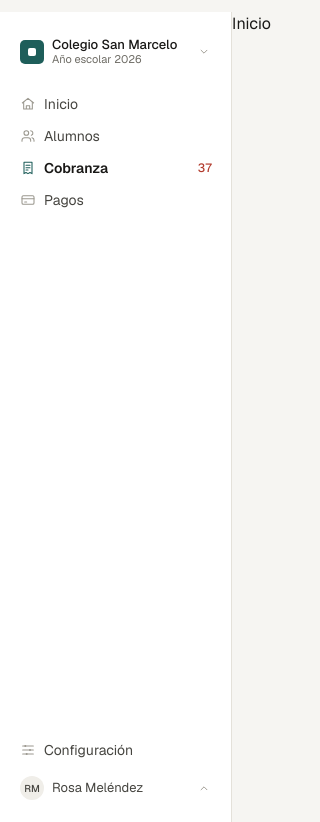
Test: PlatformShell › opens the account utility with its minimal actions
Click the button "RM Rosa Meléndez".
click(116, 788)  # box [12,770,219,806]
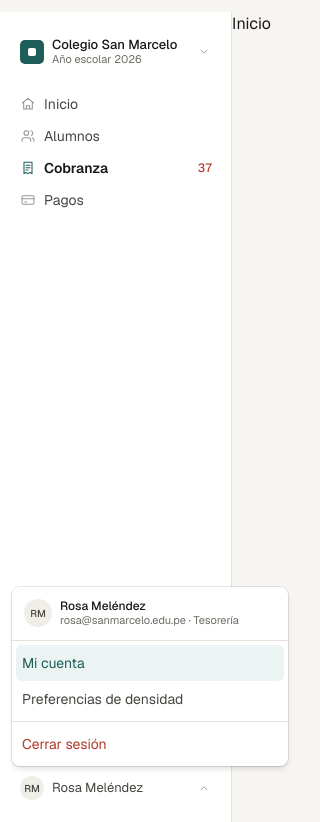
Expected: the menu item "Mi cuenta" is shown, [16,645,284,681]
Expected: the menu item "Preferencias de densidad" is shown, [22,690,183,708]
Expected: the menu item "Cerrar sesión" is shown, [22,735,107,753]
